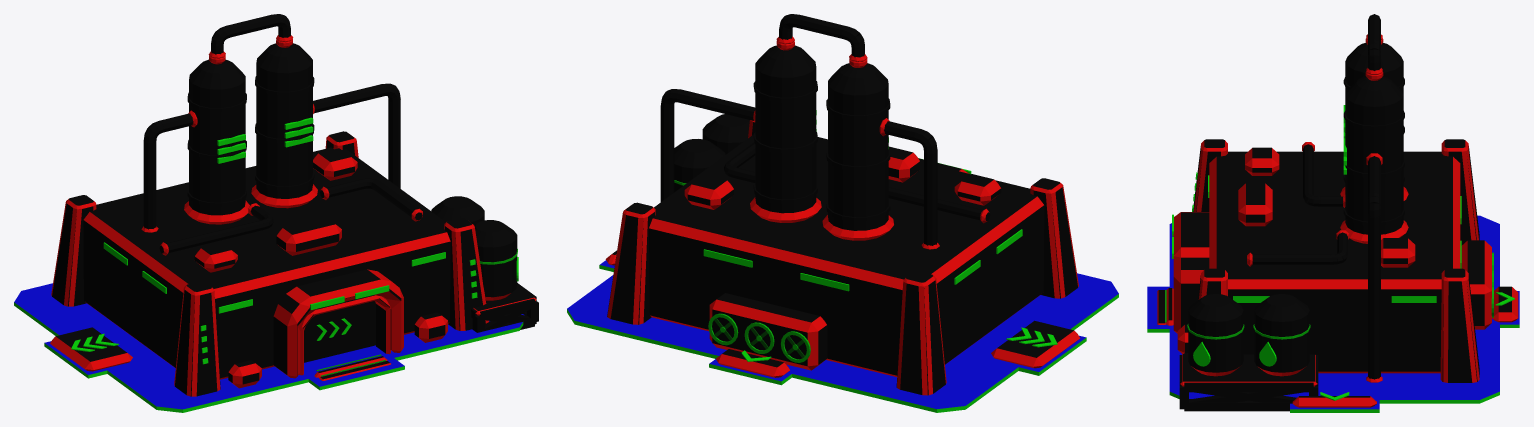
File: SM_Holo_FluidPlant_T2_Mini.fbx
3 renders of one model, left to right at view 1: azimuth 30°, elevation 25°; view 2: azimuth 150°, elevation 25°; view 3: azimuth 270°, elevation 25°, orthographic. The views are drawn at different scales.
Parts seen in each view (by area): view 1: SM_Holo_FluidPlant_T2_Mini; view 2: SM_Holo_FluidPlant_T2_Mini; view 3: SM_Holo_FluidPlant_T2_Mini.
Part boxes in pixels (x1=…): SM_Holo_FluidPlant_T2_Mini: x1=14, y1=14, x2=538, y2=412; SM_Holo_FluidPlant_T2_Mini: x1=567, y1=14, x2=1118, y2=412; SM_Holo_FluidPlant_T2_Mini: x1=1147, y1=14, x2=1519, y2=412.
Bounding box in the file's own units: 36.4 × 24.06 × 28.2.
